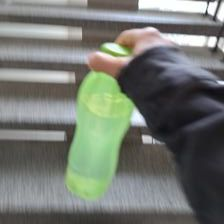bottle: (64, 41, 135, 201)
